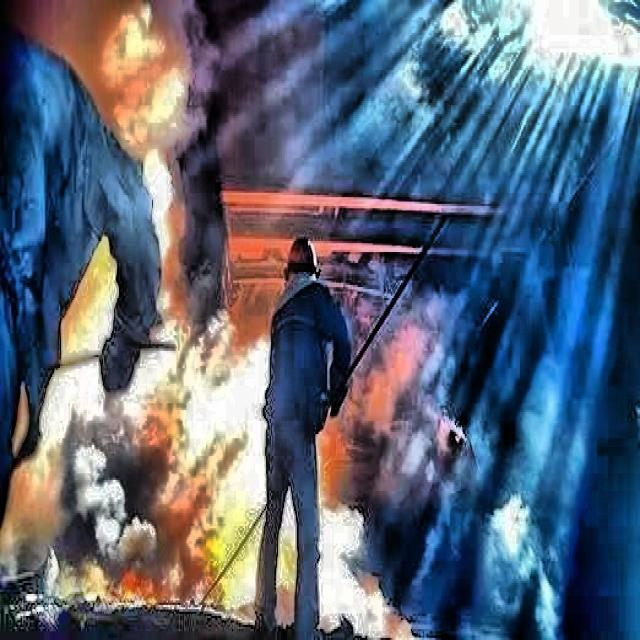helmet: (283, 230, 321, 298)
